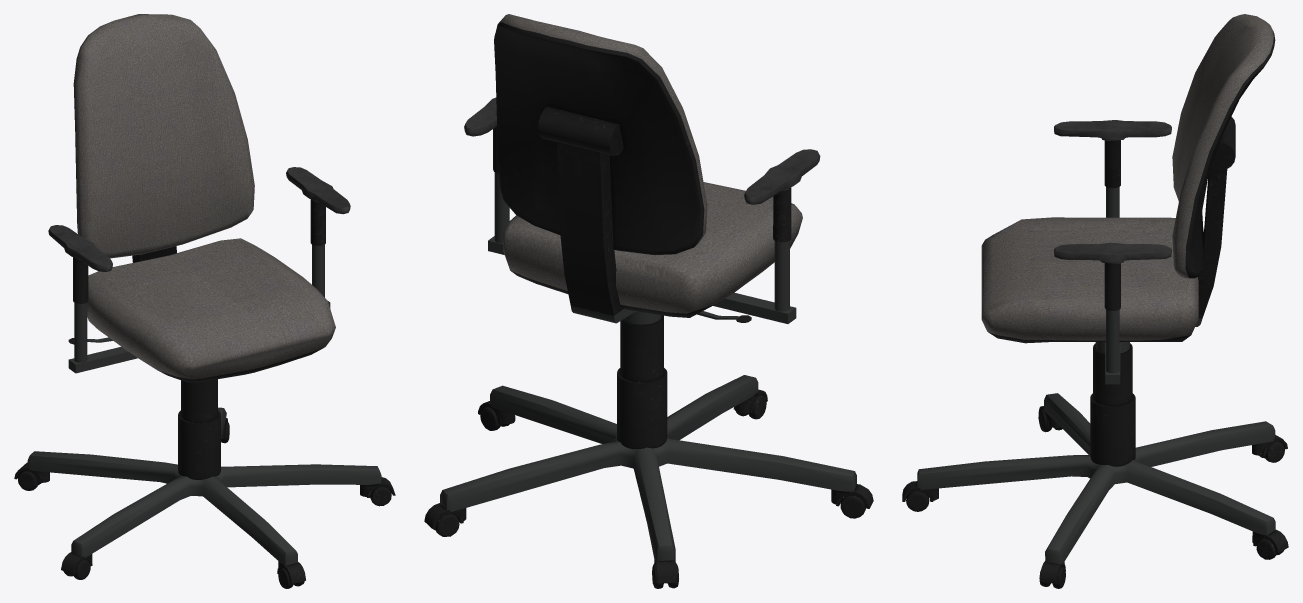
Rendered from office_chair.glb.
The picture shows the model from 3 angles, left to right: view 1: azimuth 30°, elevation 25°; view 2: azimuth 150°, elevation 25°; view 3: azimuth 270°, elevation 25°; orthographic projection. The views are drawn at different scales.
Parts seen in each view (by area): view 1: OfficeChair_OfficeChairCloth_0, OfficeChair_OfficeChairMetal_0, OfficeChair_OfficeChairPlastic_0, OfficeChair_OfficeChairLeather_0; view 2: OfficeChair_OfficeChairPlastic_0, OfficeChair_OfficeChairMetal_0, OfficeChair_OfficeChairCloth_0, OfficeChair_OfficeChairLeather_0; view 3: OfficeChair_OfficeChairCloth_0, OfficeChair_OfficeChairMetal_0, OfficeChair_OfficeChairPlastic_0, OfficeChair_OfficeChairLeather_0.
Boxes of the visible parts, x1,y1,x2,y2 form: OfficeChair_OfficeChairCloth_0: (74,14,335,379); OfficeChair_OfficeChairMetal_0: (27,244,381,565); OfficeChair_OfficeChairPlastic_0: (14,53,395,588); OfficeChair_OfficeChairLeather_0: (48,167,350,272); OfficeChair_OfficeChairPlastic_0: (424,22,873,588); OfficeChair_OfficeChairMetal_0: (440,172,856,561); OfficeChair_OfficeChairCloth_0: (498,14,802,313); OfficeChair_OfficeChairLeather_0: (464,97,820,204); OfficeChair_OfficeChairCloth_0: (981,14,1273,340); OfficeChair_OfficeChairMetal_0: (917,187,1275,564); OfficeChair_OfficeChairPlastic_0: (902,31,1288,588); OfficeChair_OfficeChairLeather_0: (1054,120,1171,263).
Bounding box in the file's own units: 97.3 × 126 × 92.63.
4 materials, 3 textured.
